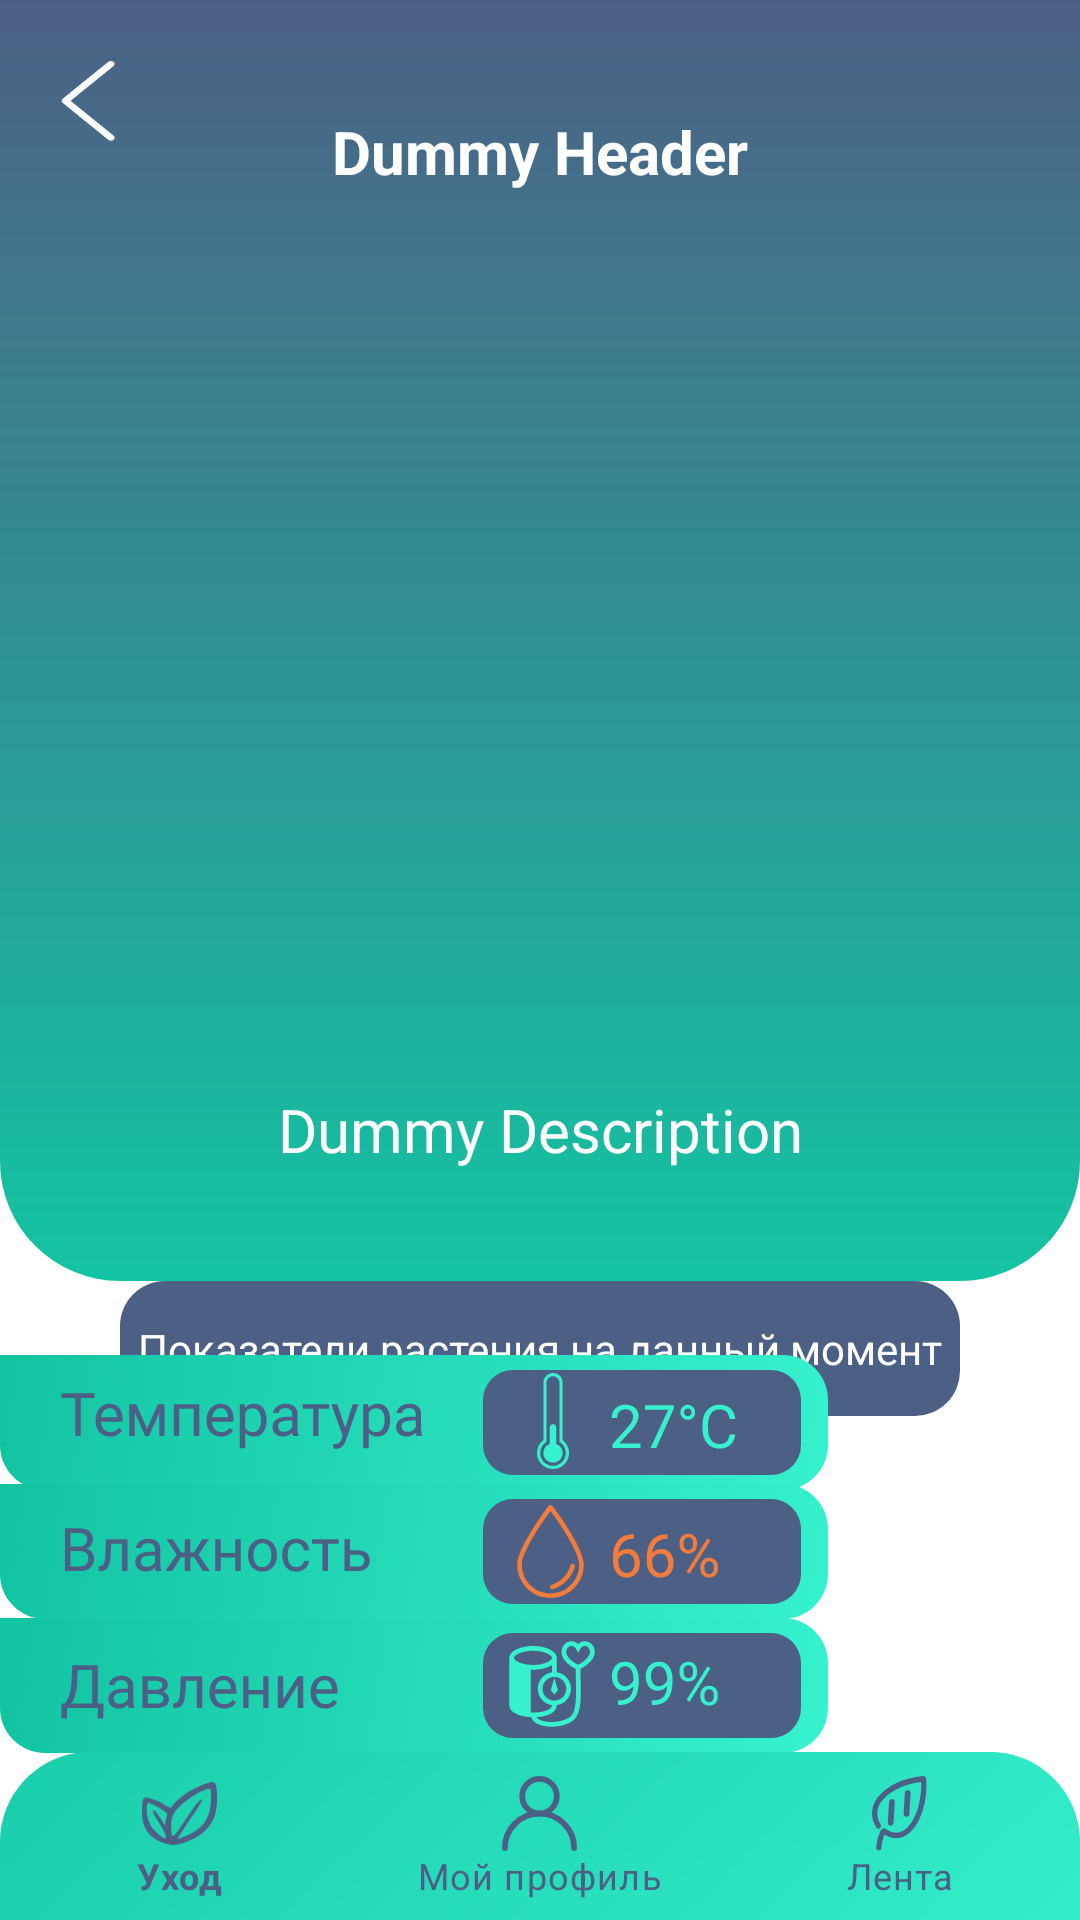

Named icons in this screenshot (1080px x 1920px) and their bounding boxes, (x1, y1, x2, y2):
backtrhrow: (61, 61, 115, 141)
